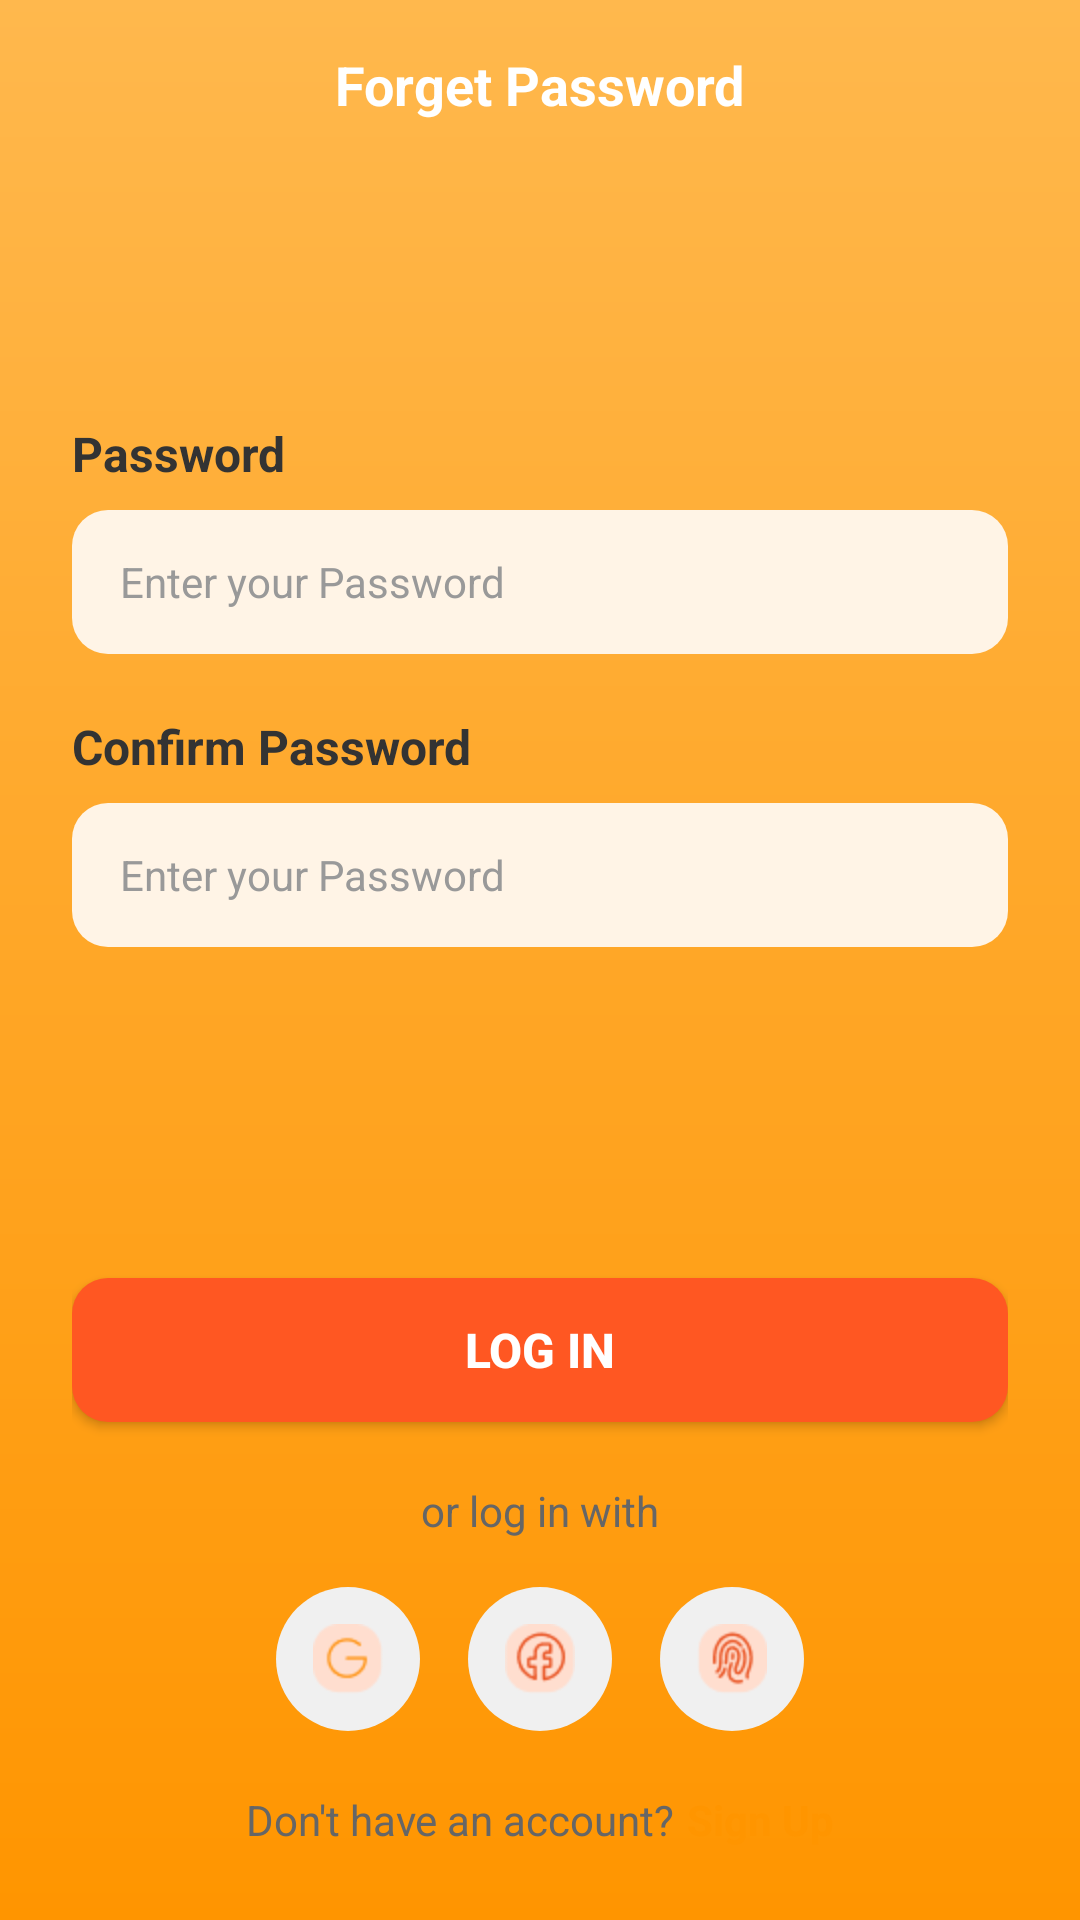

Locate icon controls on the screen. Image size 1080w x 1920h, boxes as bbox=[x1, y1, x2, y2].
fingerprint: bbox=[660, 1587, 804, 1731]
